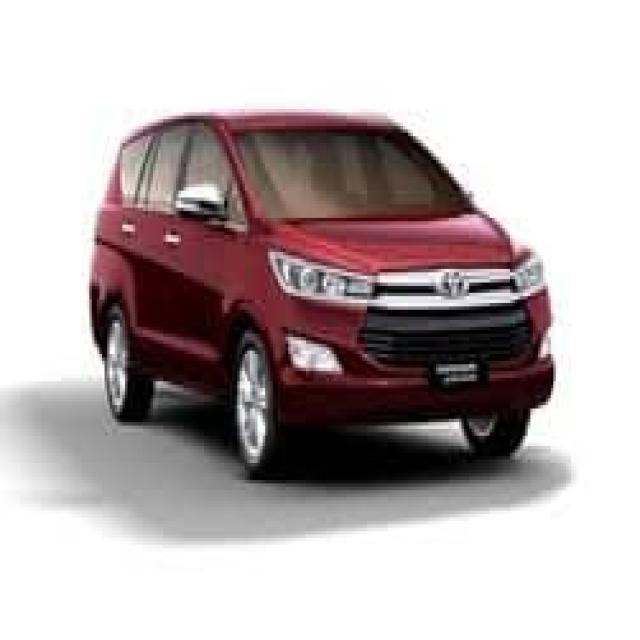light_vehicle: (90, 110, 556, 485)
